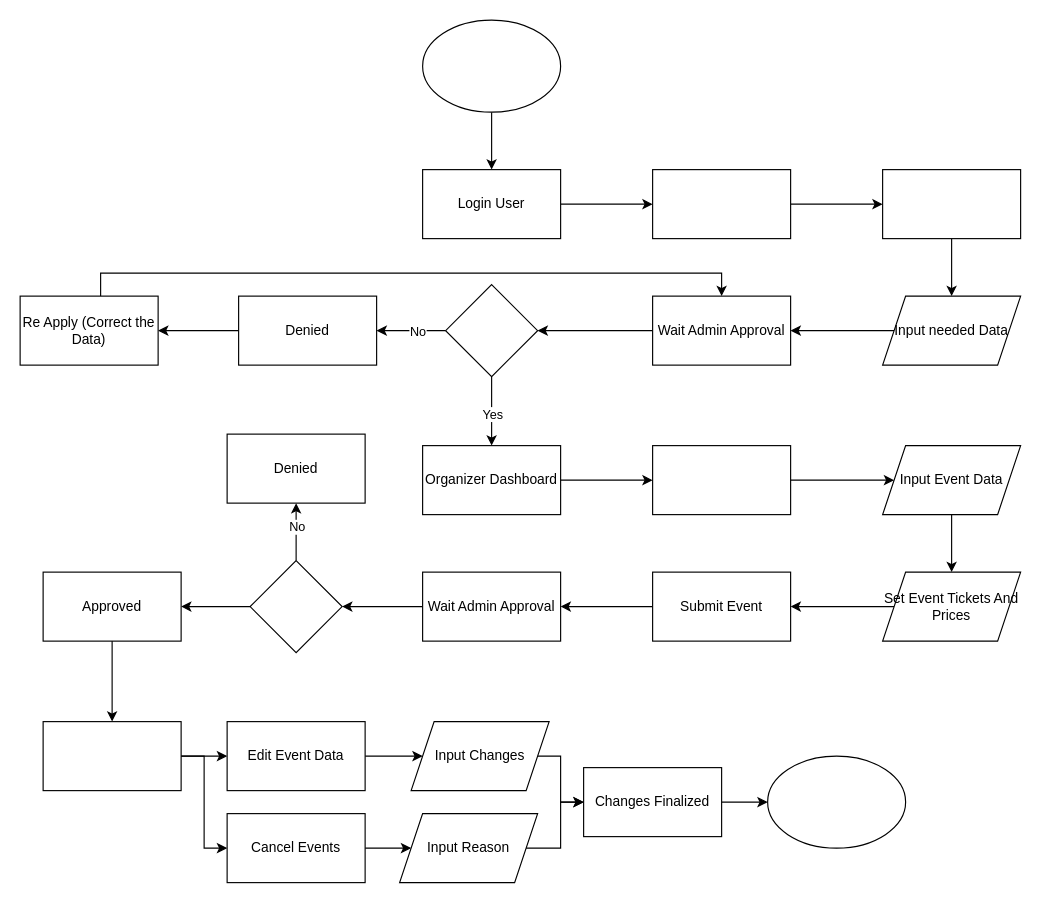
This 1041x903 diagram has some shape labels left out. The centre of each missing label's shape, as x and y in pixels:
"Apply Organizer" goes at [951,203].
"Create Event" goes at [721,479].
"End" goes at [836,801].
"Event Status" goes at [295,606].
"Manage Events" goes at [111,755].
"Organizer Status" goes at [491,330].
"Profile Page" goes at [721,203].
"Start" goes at [491,65].
